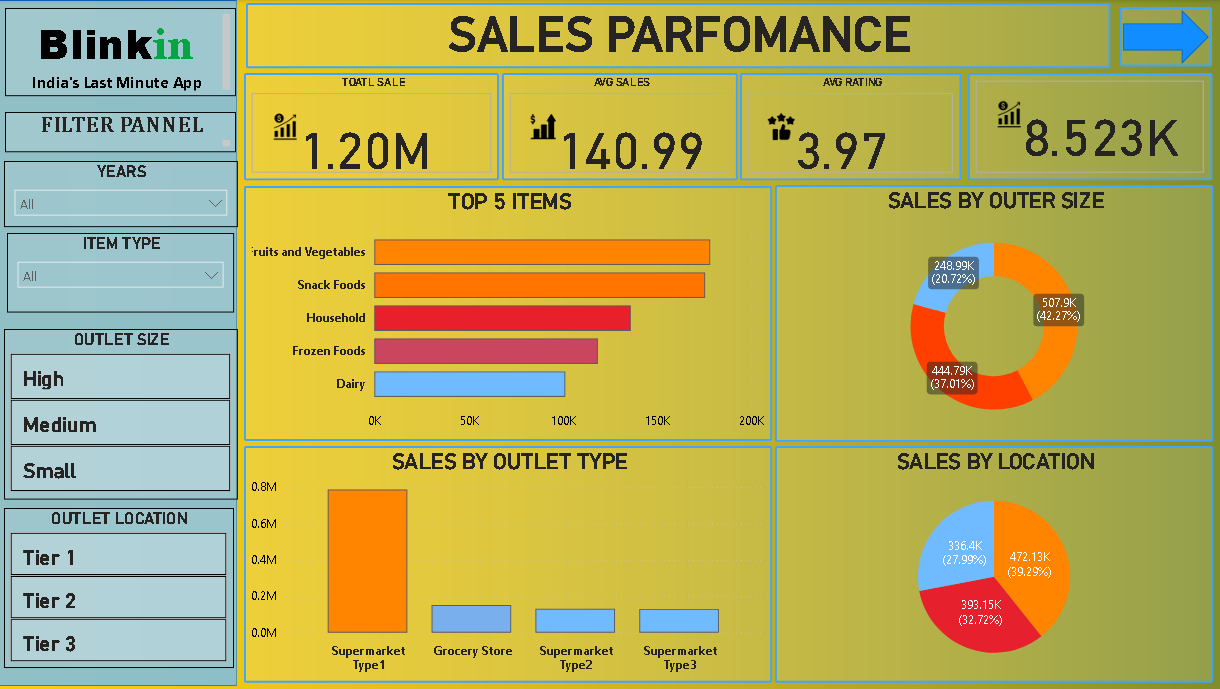

What the dashboard file says about the page in this screenshot:
{"tool":"powerbi","page":{"name":"SALES PARFOMANCE","canvas":[1280,720],"ordinal":0},"visuals":[{"type":"textbox","title":"SALES PARFOMANCE ","box":[261.7,2.7,901.7,67.8],"z":0},{"type":"shape","title":"FILTERS","box":[2.7,0,249.5,715.9],"z":1000},{"type":"advancedSlicerVisual","title":"OUTLET LOCATION","fields":{"Values":["public blink.outlet_location_type"]},"box":[8.9,530.4,239.7,167],"z":2000},{"type":"advancedSlicerVisual","title":"OUTLET SIZE","fields":{"Values":["public blink.outlet_size"]},"box":[8.9,342.9,243.5,178.5],"z":3000},{"type":"slicer","title":"YEARS","fields":{"Values":["public blink.outlet_establishment_year"]},"box":[8.9,168.3,243.5,68.8],"z":4000},{"type":"textbox","box":[10.8,8.1,241.4,92.2],"z":5000},{"type":"textbox","title":"  FILTER PANNEL          ","box":[10.8,116.6,241.4,42],"z":6000},{"type":"slicer","title":"ITEM TYPE","fields":{"Values":["public blink.item_type"]},"box":[12.7,243.5,237.1,82.9],"z":7000},{"type":"barChart","title":"TOP  5  ITEMS","fields":{"Category":["public blink.item_type"],"Y":["Sum(public blink.sales)"]},"box":[260.3,193.9,550.5,265.8],"z":8000},{"type":"clusteredColumnChart","title":"SALES BY OUTLET TYPE","fields":{"Y":["Sum(public blink.sales)"],"Category":["public blink.outlet_type"]},"box":[260.3,465.1,550.5,246.8],"z":9000},{"type":"donutChart","title":"SALES BY OUTER SIZE","fields":{"Y":["Sum(public blink.sales)"],"Category":["public blink.outlet_size"]},"box":[813.6,192.5,456.9,268.5],"z":10000},{"type":"pieChart","title":"SALES BY LOCATION","fields":{"Y":["Sum(public blink.sales)"],"Category":["public blink.outlet_location_type"]},"box":[813.6,465.1,456.9,246.8],"z":11000},{"type":"shape","box":[1174.2,7.6,95.6,62.5],"z":12000},{"type":"cardVisual","title":"TOATL SALE","fields":{"Data":["Sum(public blink.sales)"]},"box":[260.1,76.5,266.5,112.2],"z":13001},{"type":"cardVisual","title":"AVG SALES","fields":{"Data":["Avg(public blink.sales)"]},"box":[529.1,76.5,246.1,112.2],"z":13002},{"type":"cardVisual","title":"AVG RATING","fields":{"Data":["Avg(public blink.rating)"]},"box":[777.7,76.5,230.8,112.2],"z":13003},{"type":"cardVisual","fields":{"Data":["CountNonNull(public blink.sales)"]},"box":[1014.8,76.5,255,112.2],"z":13004}]}

Visuals, with their boxes in screenshot pixels (x1, y1, x2, y2), scaled from the page's 1280x720 canvas onto the 1220x689 screenshot:
"SALES PARFOMANCE " textbox: l=249, t=3, r=1109, b=67
"FILTERS" shape: l=3, t=0, r=240, b=685
"OUTLET LOCATION" advancedSlicerVisual: l=8, t=508, r=237, b=667
"OUTLET SIZE" advancedSlicerVisual: l=8, t=328, r=241, b=499
"YEARS" slicer: l=8, t=161, r=241, b=227
textbox: l=10, t=8, r=240, b=96
"  FILTER PANNEL          " textbox: l=10, t=112, r=240, b=152
"ITEM TYPE" slicer: l=12, t=233, r=238, b=312
"TOP  5  ITEMS" barChart: l=248, t=186, r=773, b=440
"SALES BY OUTLET TYPE" clusteredColumnChart: l=248, t=445, r=773, b=681
"SALES BY OUTER SIZE" donutChart: l=775, t=184, r=1211, b=441
"SALES BY LOCATION" pieChart: l=775, t=445, r=1211, b=681
shape: l=1119, t=7, r=1210, b=67
"TOATL SALE" cardVisual: l=248, t=73, r=502, b=181
"AVG SALES" cardVisual: l=504, t=73, r=739, b=181
"AVG RATING" cardVisual: l=741, t=73, r=961, b=181
cardVisual - CountNonNull(public blink.sales): l=967, t=73, r=1210, b=181
